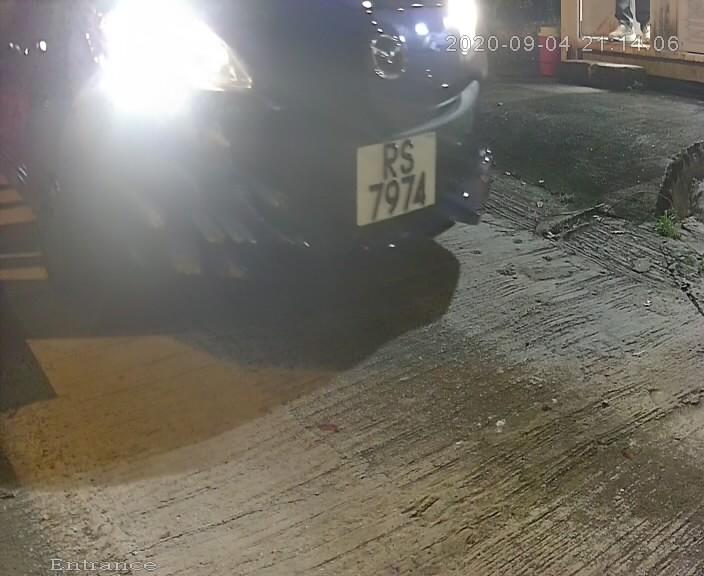License Plate: (346, 116, 444, 242)
